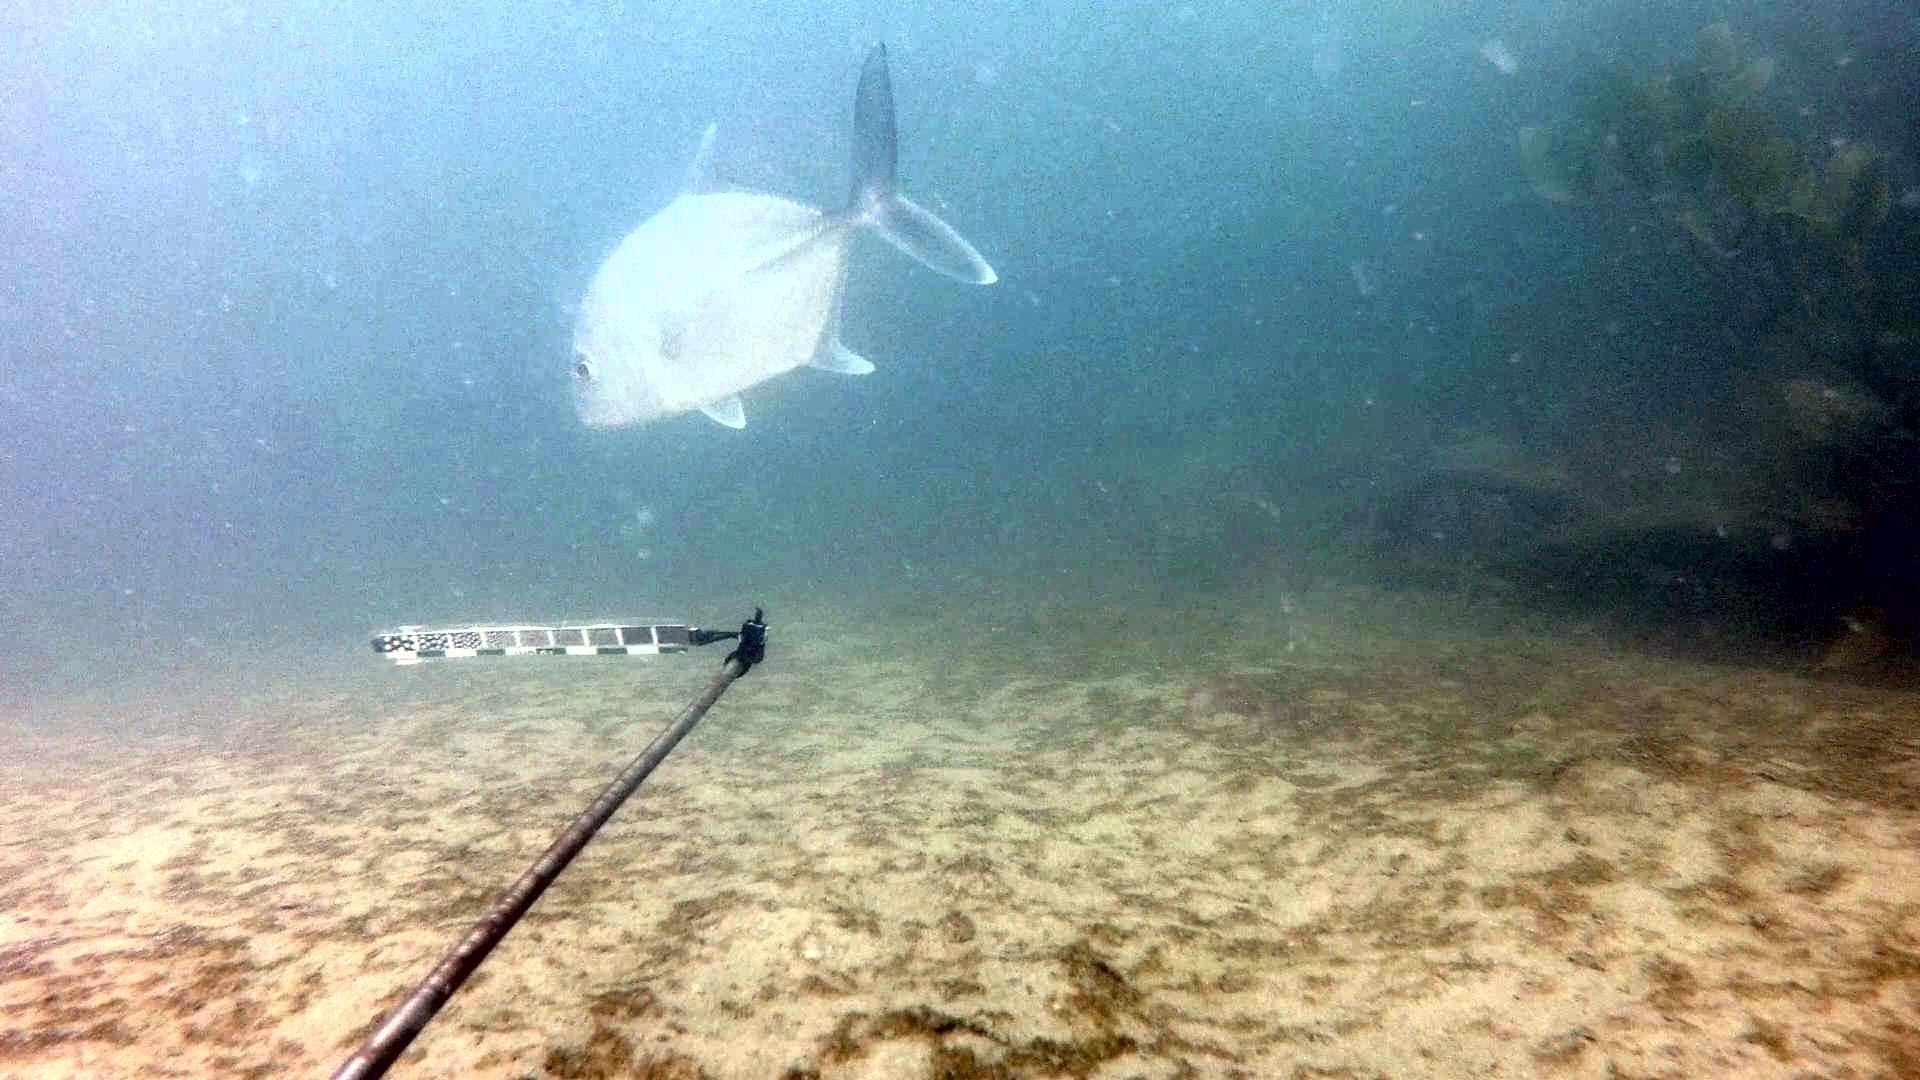caranx: (558, 29, 1010, 434)
